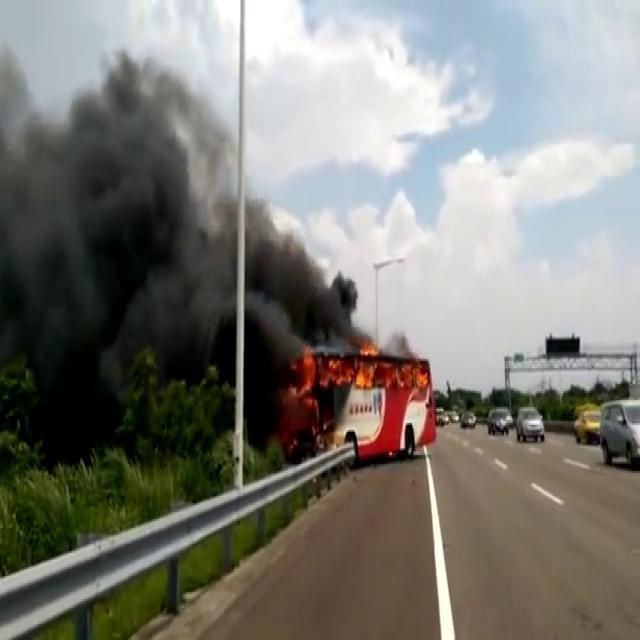Fire: (346, 334, 427, 392)
Smoke: (0, 28, 338, 438)
